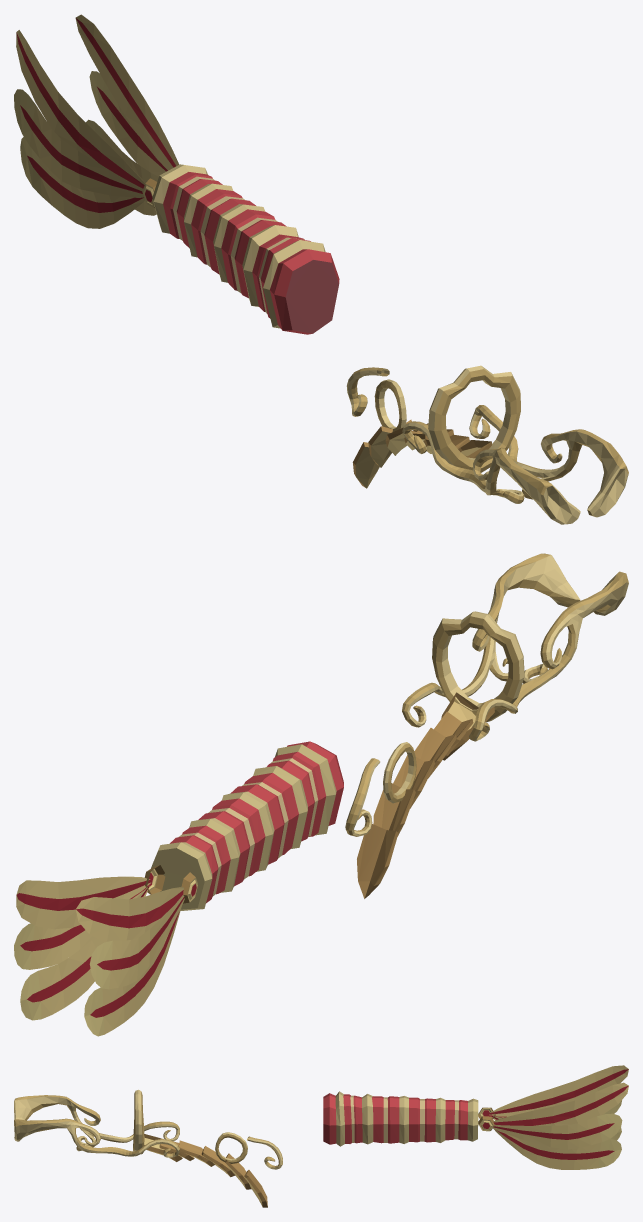
File: largeCrossbowGreekHandle.glb
3 renders of one model, top to bottom at view 1: azimuth 30°, elevation 25°; view 2: azimuth 150°, elevation 25°; view 3: azimuth 270°, elevation 25°, orthographic. The views are drawn at different scales.
Visible parts, largest first — view 1: largeCrossbowGreekHandle; view 2: largeCrossbowGreekHandle; view 3: largeCrossbowGreekHandle.
Boxes of the visible parts, box(x1,y1,x2,y2) form: largeCrossbowGreekHandle: box(14, 14, 628, 524); largeCrossbowGreekHandle: box(14, 553, 628, 1036); largeCrossbowGreekHandle: box(14, 1065, 628, 1207).
Bounding box in the file's own units: 0.127 × 0.2835 × 1.18.
